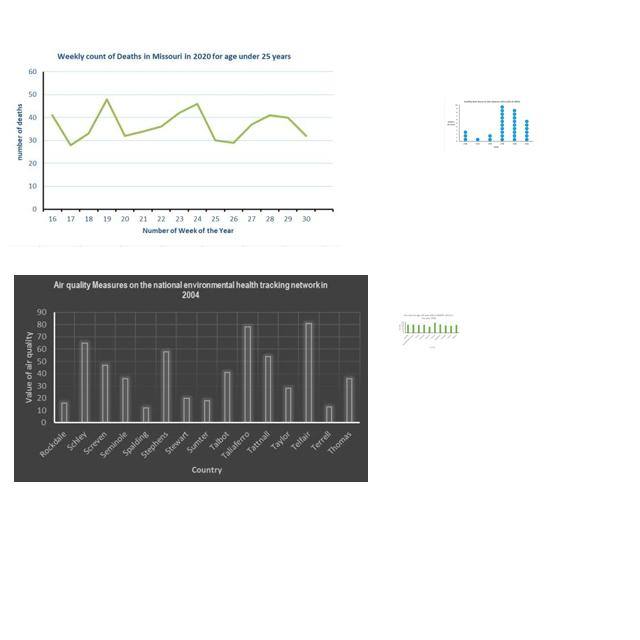Graph: (14, 275, 368, 482), (7, 46, 341, 247), (444, 98, 535, 151), (397, 313, 460, 349)
